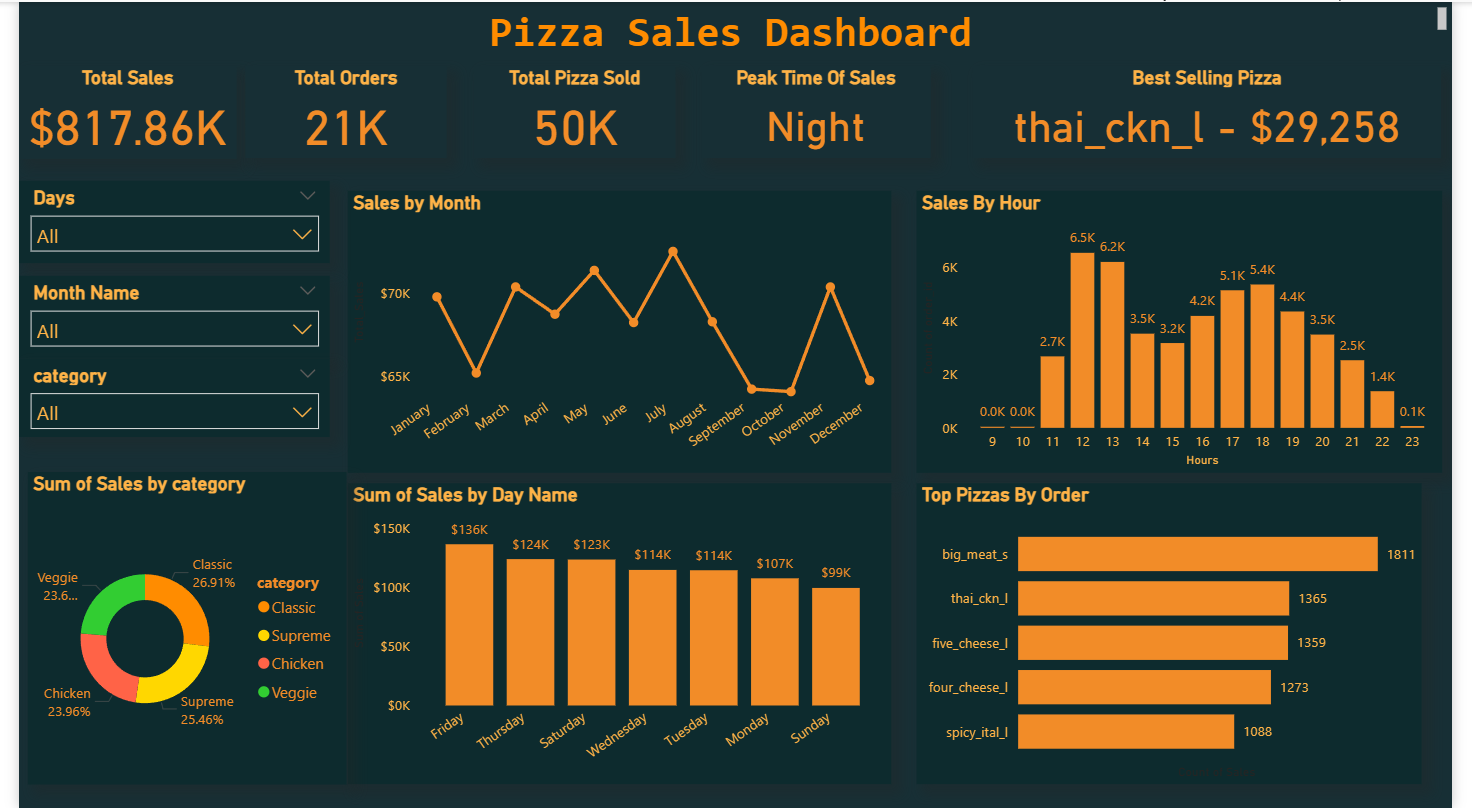

What the dashboard file says about the page in this screenshot:
{"tool":"powerbi","page":{"name":"DashBoard","canvas":[1280,720],"ordinal":0},"visuals":[{"type":"textbox","box":[0,0,1280.2,54.7],"z":0},{"type":"card","title":"Total Sales","fields":{"Values":["Order_Details.Total_Sales"]},"box":[0,56.5,194.2,83.6],"z":1000},{"type":"card","title":"Total Orders","fields":{"Values":["Order_Details.Total_orders"]},"box":[202.3,57,180.2,82.6],"z":2000},{"type":"card","title":"Total Pizza Sold","fields":{"Values":["Order_Details.Totla_quantity_sold"]},"box":[407,57,180.2,82.6],"z":3000},{"type":"columnChart","title":"Sales By Hour","fields":{"Category":["Orders.Hour"],"Y":["CountNonNull(Order_Details.order_id)"]},"box":[801.7,168.2,469.7,251.8],"z":4000},{"type":"lineChart","title":"Sales by Month","fields":{"Category":["Orders.date.Variation.Date Hierarchy.Year","Orders.date.Variation.Date Hierarchy.Quarter","Orders.date.Variation.Date Hierarchy.Month","Orders.date.Variation.Date Hierarchy.Day"],"Y":["Order_Details.Total_Sales"]},"box":[293.6,168.2,485.5,251.8],"z":5000},{"type":"columnChart","fields":{"Category":["Orders.Day Name"],"Y":["Sum(Order_Details.Sales)"]},"box":[293.6,430.2,485.5,268.7],"z":6000},{"type":"barChart","title":"Top Pizzas By Order","fields":{"Category":["Pizzas.pizza_id"],"Y":["CountNonNull(Order_Details.Sales)"]},"box":[801.7,429.9,451.1,269.1],"z":7000},{"type":"donutChart","fields":{"Category":["pizza_Types.category"],"Y":["Sum(Order_Details.Sales)"]},"box":[8.1,419.8,284.9,279.1],"z":8000},{"type":"card","title":"Peak Time Of Sales","fields":{"Values":["Order_Details.Peak Time of Day"]},"box":[609.3,57,204.7,82.6],"z":9000},{"type":"card","title":"Best Selling Pizza","fields":{"Values":["Order_Details.Top Pizza by Revenue"]},"box":[852.3,57,418.6,82.6],"z":10000},{"type":"slicer","fields":{"Values":["Orders.Day Name"]},"box":[0,159.2,277.8,73.4],"z":11000},{"type":"slicer","fields":{"Values":["Orders.Month Name"]},"box":[0,245,277.8,73.4],"z":12000},{"type":"slicer","fields":{"Values":["pizza_Types.category"]},"box":[0,318.4,277.8,70],"z":14000}]}

Visuals, with their boxes in screenshot pixels (x1, y1, x2, y2), scaled from the page's 1280x720 canvas onto the 1472x808 screenshot:
textbox: [left=0, top=0, right=1471, bottom=61]
"Total Sales" card: [left=0, top=63, right=223, bottom=157]
"Total Orders" card: [left=233, top=64, right=440, bottom=157]
"Total Pizza Sold" card: [left=468, top=64, right=675, bottom=157]
"Sales By Hour" columnChart: [left=922, top=189, right=1462, bottom=471]
"Sales by Month" lineChart: [left=338, top=189, right=896, bottom=471]
columnChart - Orders.Day Name x Sum(Order_Details.Sales): [left=338, top=483, right=896, bottom=784]
"Top Pizzas By Order" barChart: [left=922, top=482, right=1441, bottom=784]
donutChart - pizza_Types.category x Sum(Order_Details.Sales): [left=9, top=471, right=337, bottom=784]
"Peak Time Of Sales" card: [left=701, top=64, right=936, bottom=157]
"Best Selling Pizza" card: [left=980, top=64, right=1462, bottom=157]
slicer - Orders.Day Name: [left=0, top=179, right=319, bottom=261]
slicer - Orders.Month Name: [left=0, top=275, right=319, bottom=357]
slicer - pizza_Types.category: [left=0, top=357, right=319, bottom=436]
